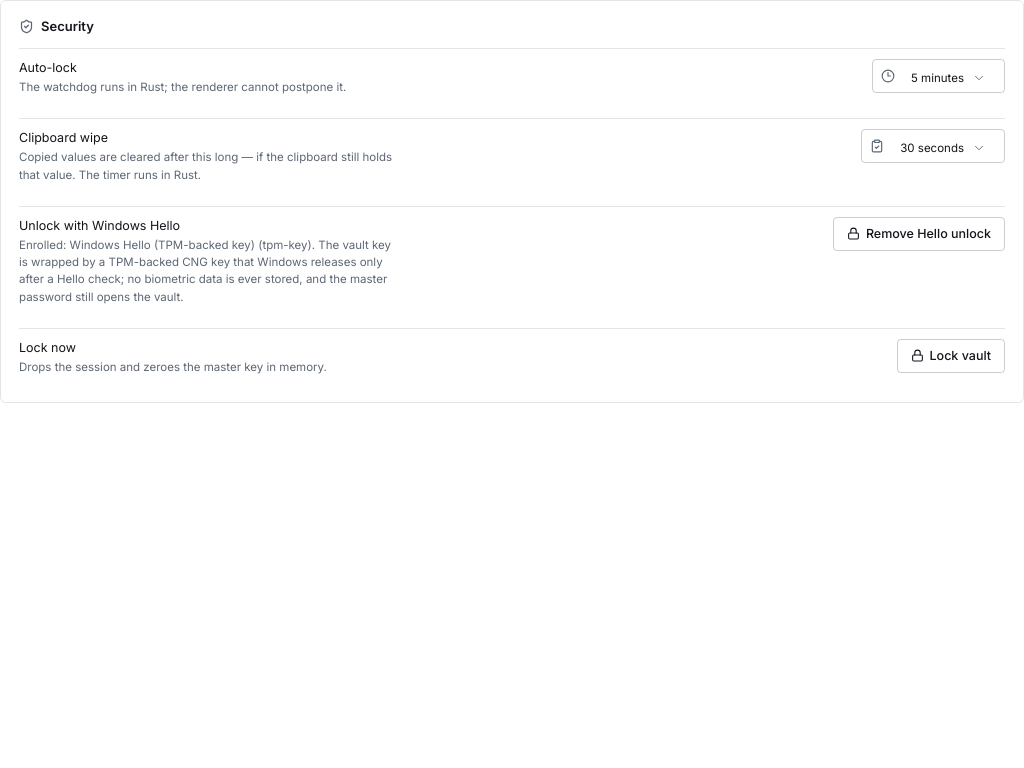
Test case: Settings · Windows Hello row › removes enrolment
Click the button "Remove Hello unlock" at (919, 234), box [833, 217, 1005, 251]
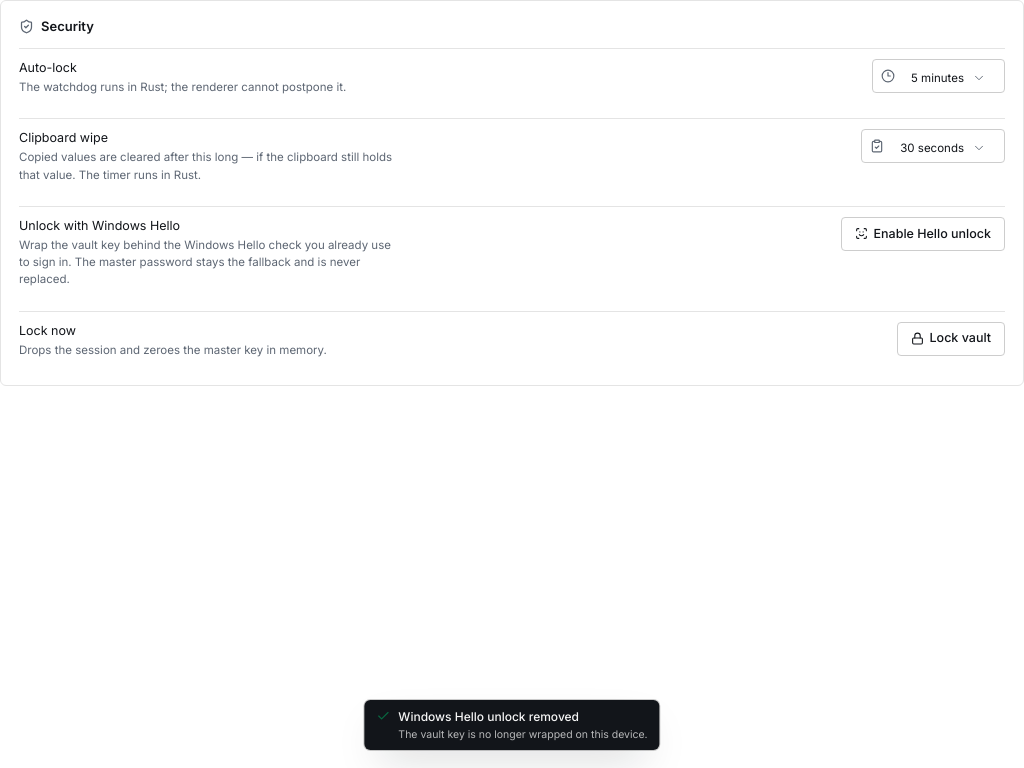
Check: the button "Enable Hello unlock" is shown, box [840, 217, 1005, 251]
